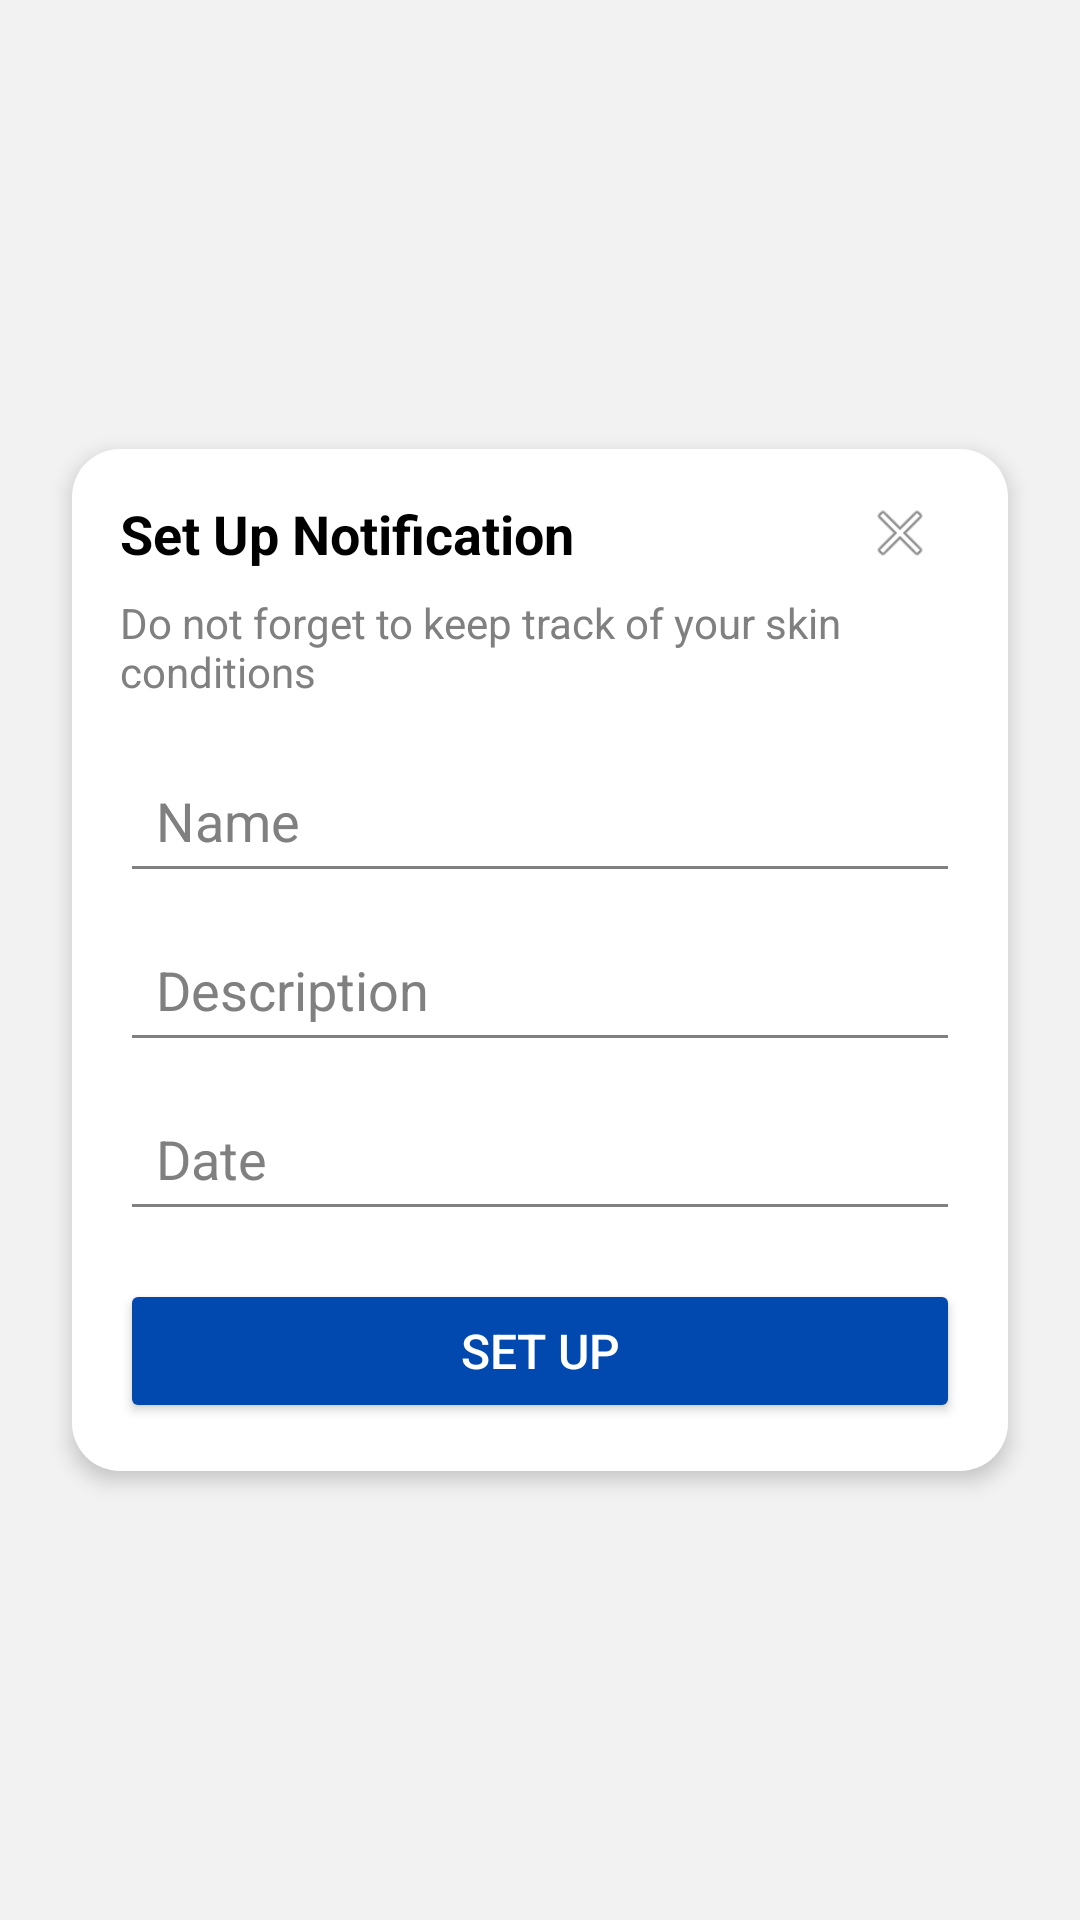

Where to tap for icons on this 1080×1920 app screen, as [x,y]:
close clear cancel: [900,533]
